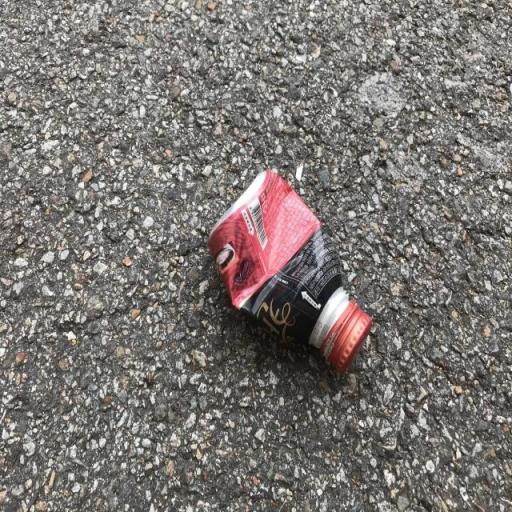metal: (197, 141, 384, 383)
